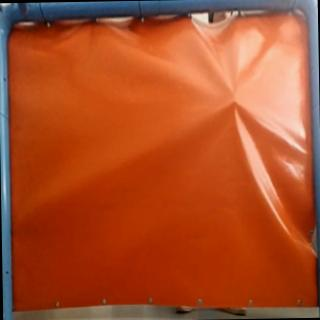Hit-hRxx: (229, 97, 242, 110)
